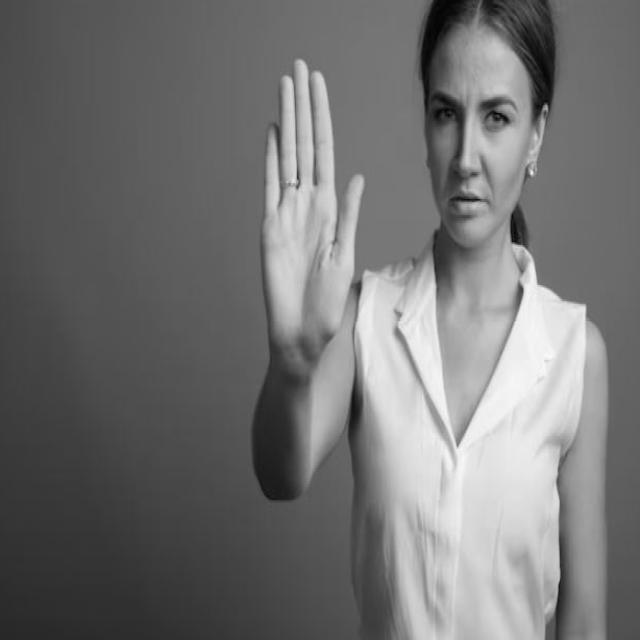stop: (256, 51, 369, 361)
